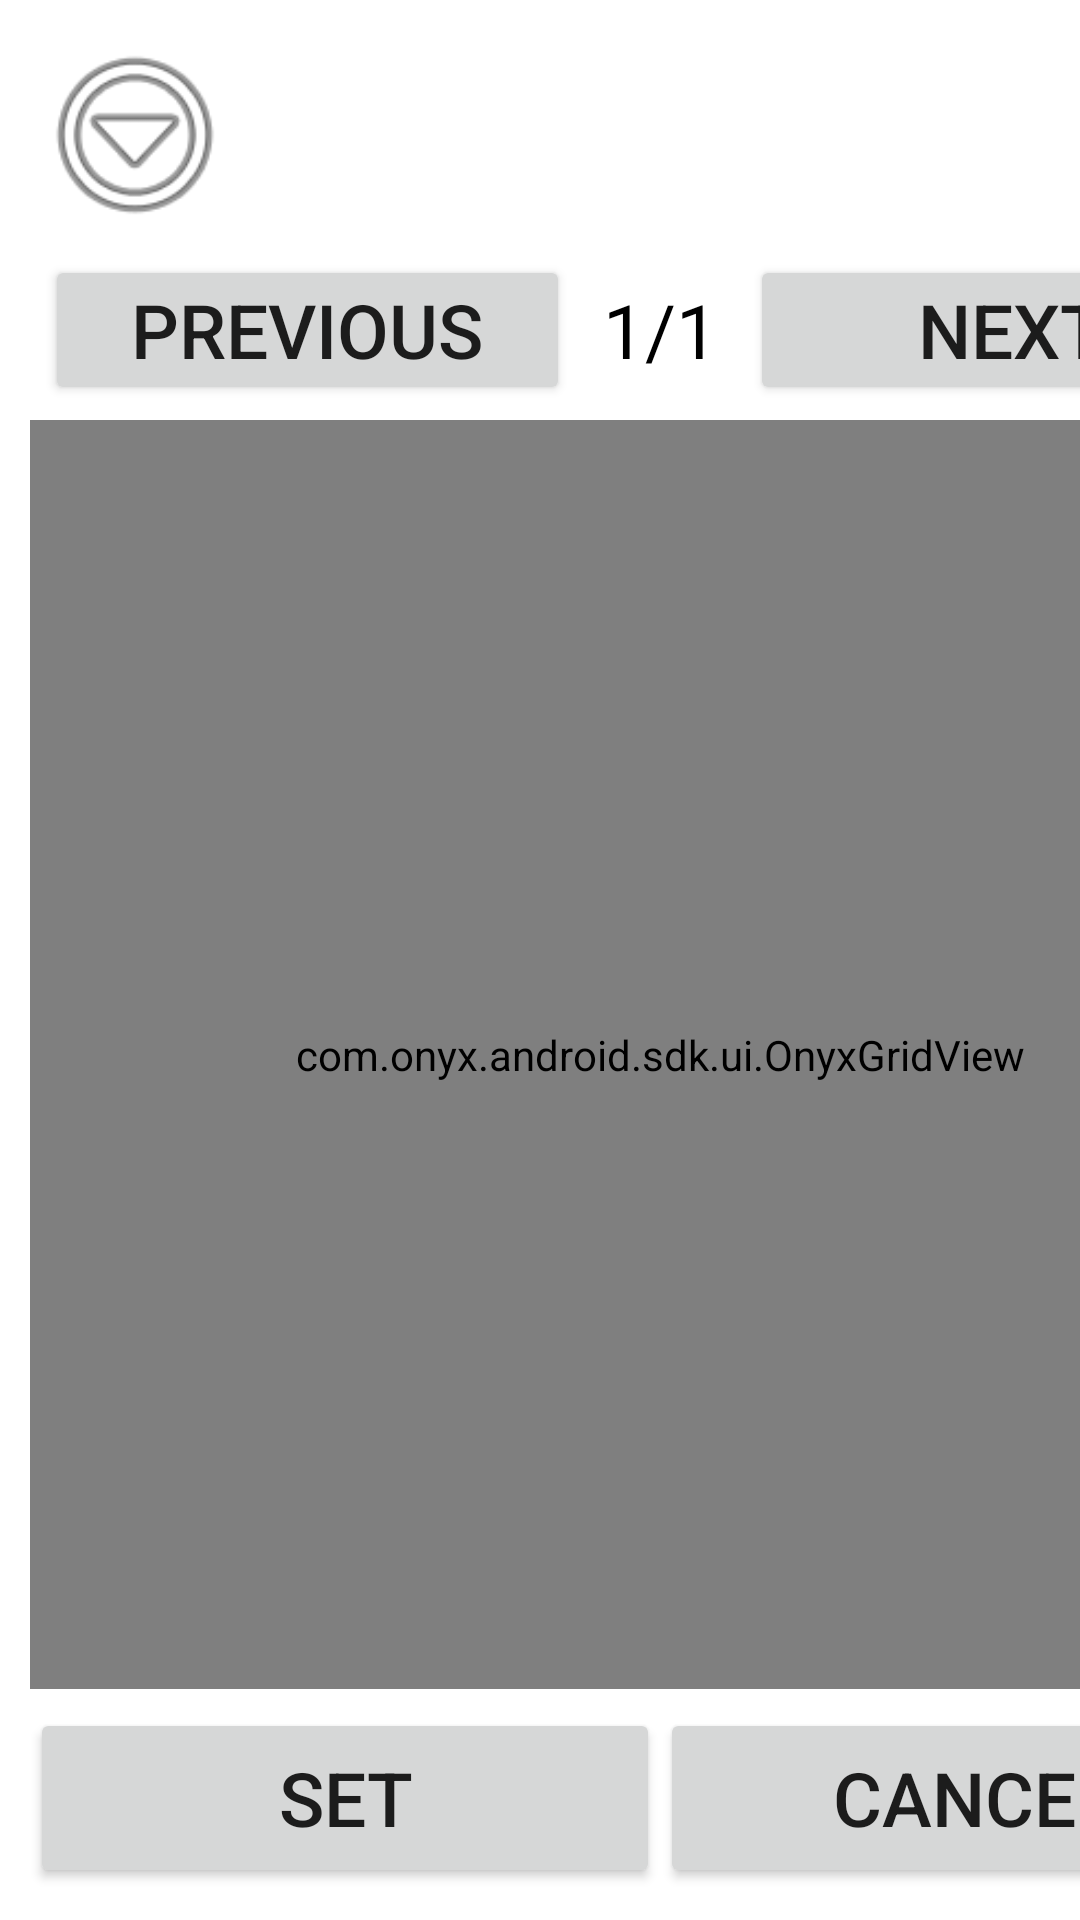

Screen size 1080 × 1920. Icon name, then its box in pixels as (x1, y1, x2, y2):
more: (57, 57, 213, 213)
